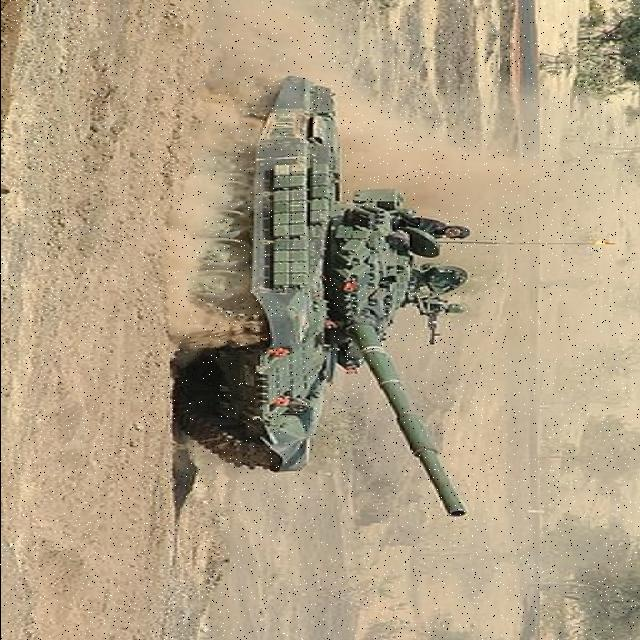TANK: (173, 75, 479, 522)
